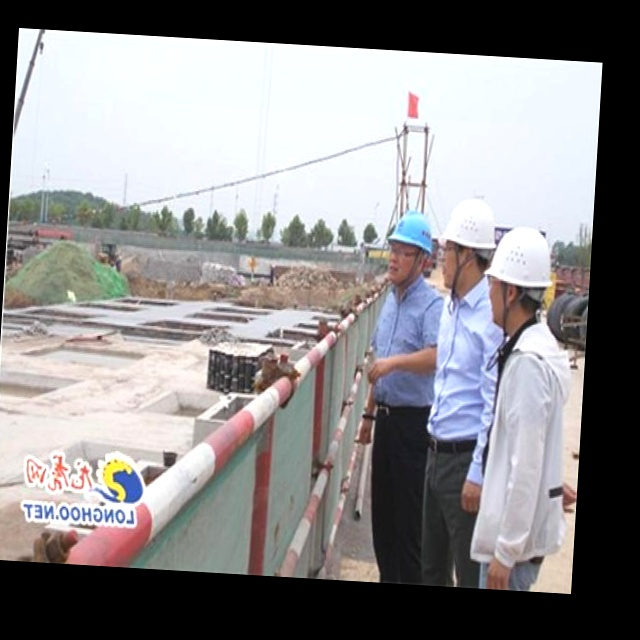Con_Casco: (486, 227, 553, 325), (383, 213, 435, 285)
